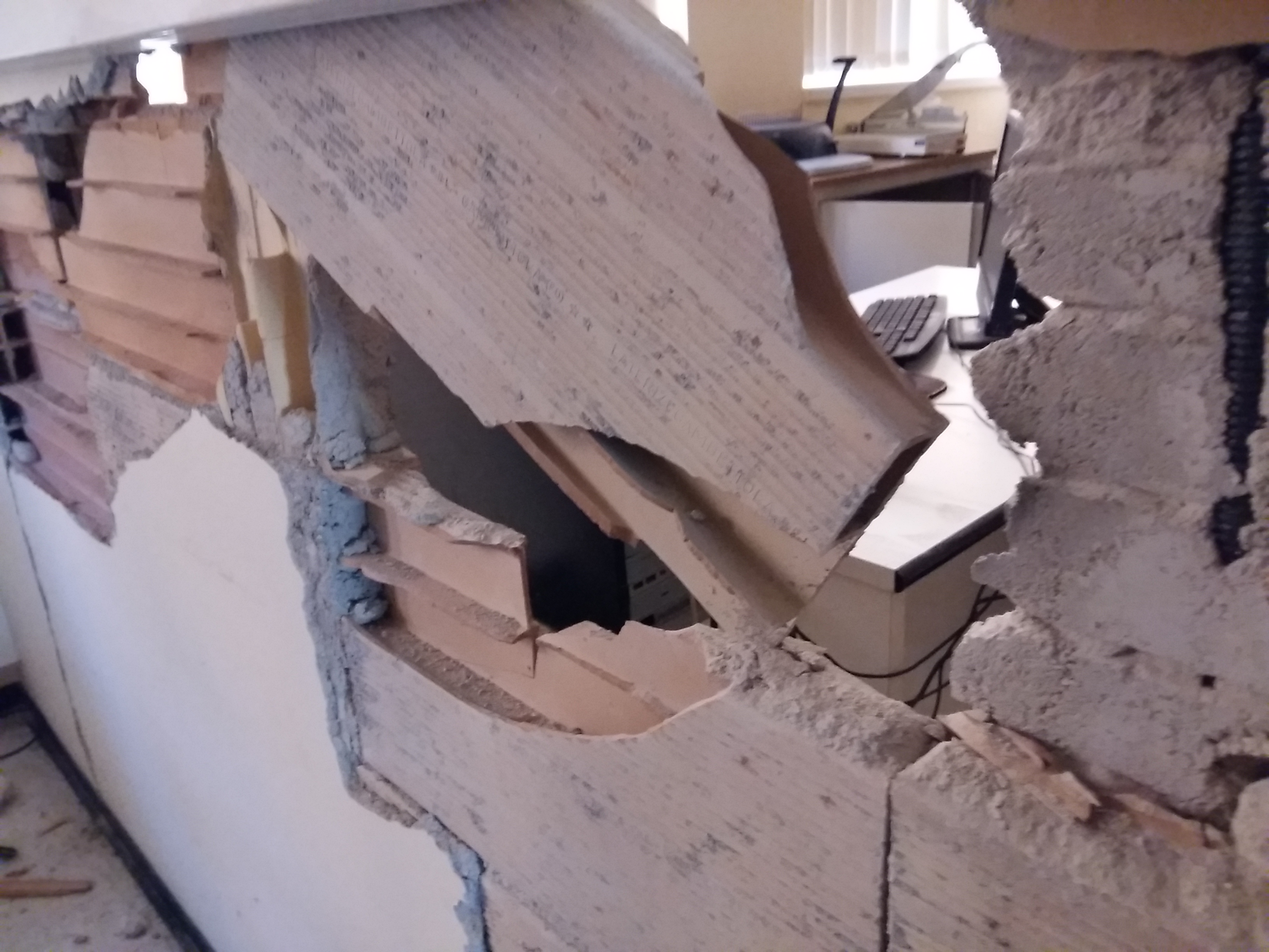Other damage/mechanism: (3, 7, 1245, 940)
